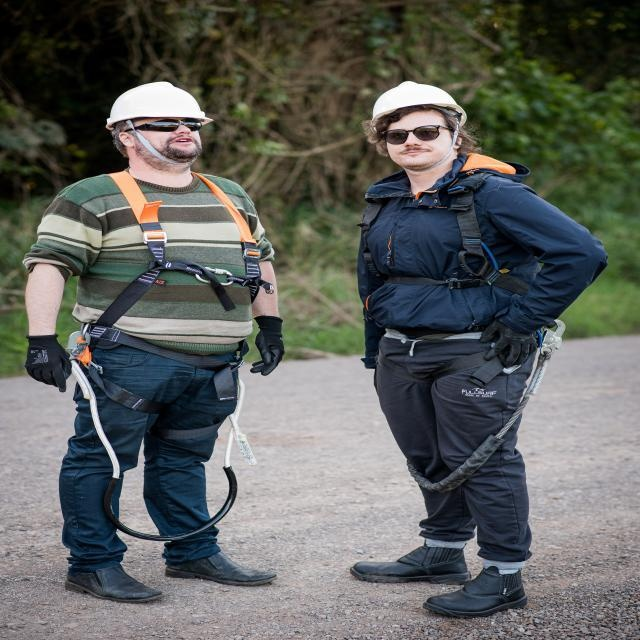Arnes_seguridad: (64, 163, 275, 438), (353, 166, 573, 394)
